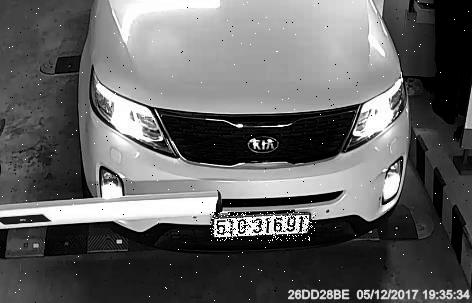License-plate: (212, 213, 318, 242)
